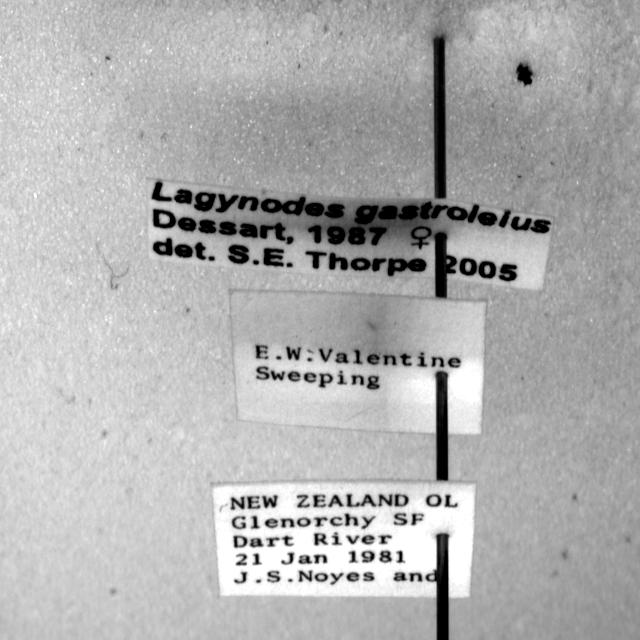typed_label: (148, 180, 554, 289), (231, 291, 486, 435), (212, 482, 476, 598)
